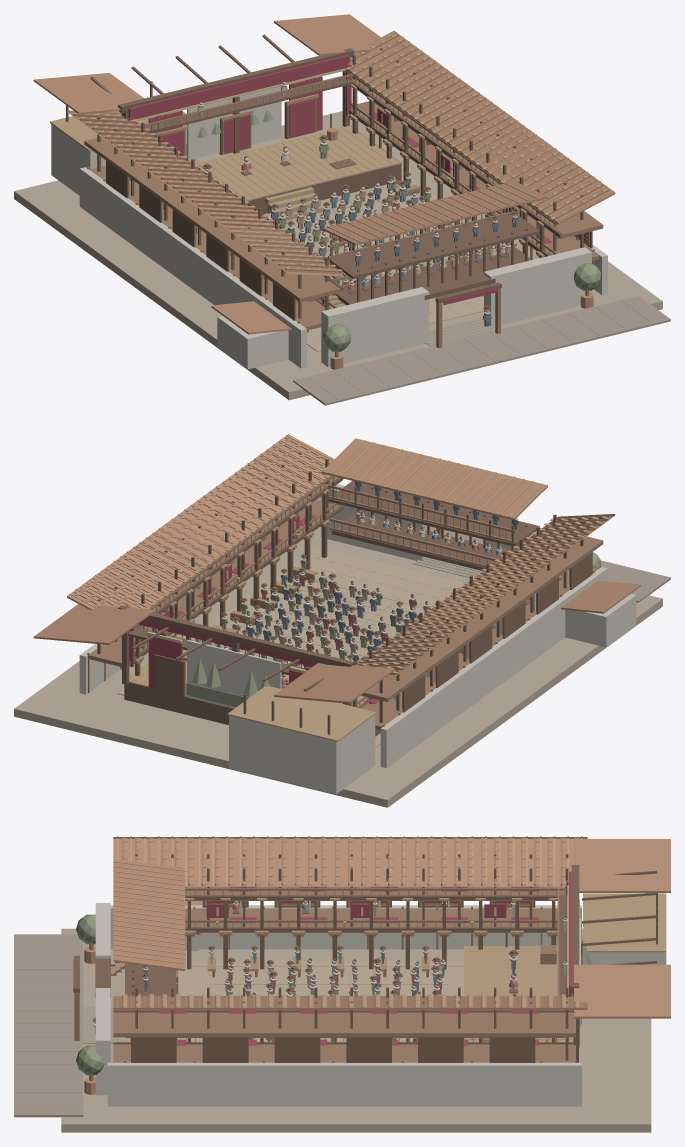
File: Corral_de_Comedias_3D_DETALLADO.glb
3 views of the same model, one above another, from view 1: azimuth 30°, elevation 25°; view 2: azimuth 150°, elevation 25°; view 3: azimuth 270°, elevation 25° (orthographic). The views are drawn at different scales.
Visible parts, largest first — view 1: Cubiertas | teja, Arquitectura | suelo, Cubiertas | teja_luz, Zaguán | piedra, Corredores | madera, Zaguán | enlucido, Cubiertas | teja_sombra, Arquitectura | enlucido, Escenario | tarima, Tertulia | madera_oscura, Corredores | madera_oscura, Escenario | granate (+28 smaller); view 2: Cubiertas | teja, Arquitectura | suelo, Cubiertas | teja_luz, Corredores | madera, Arquitectura | enlucido, Patio | baldosa, Camerinos | enlucido, Cubiertas | teja_sombra, Corredores | madera_oscura, Escenario | madera_oscura, Camerinos | tarima, Tertulia | madera_oscura (+25 smaller); view 3: Cubiertas | teja, Arquitectura | enlucido, Arquitectura | suelo, Corredores | madera, Zaguán | piedra, Cubiertas | teja_luz, Aposentos | madera_oscura, Corredores | madera_oscura, Patio | baldosa, Camerinos | tarima, Cubiertas | teja_sombra, Escenario | tarima (+22 smaller).
Boxes of the visible parts, box(x1,y1,x2,y2) form: Cubiertas | teja: box(33, 14, 615, 276); Arquitectura | suelo: box(14, 111, 662, 400); Cubiertas | teja_luz: box(69, 32, 613, 274); Zaguán | piedra: box(293, 296, 670, 405); Corredores | madera: box(84, 73, 603, 330); Zaguán | enlucido: box(321, 247, 591, 367); Cubiertas | teja_sombra: box(74, 35, 609, 272); Arquitectura | enlucido: box(79, 167, 607, 368); Escenario | tarima: box(194, 125, 402, 222); Tertulia | madera_oscura: box(328, 207, 539, 278); Corredores | madera_oscura: box(97, 48, 583, 318); Escenario | granate: box(128, 55, 351, 137); Cubiertas | teja: box(33, 434, 615, 703); Arquitectura | suelo: box(14, 527, 662, 807); Cubiertas | teja_luz: box(69, 435, 613, 675); Corredores | madera: box(89, 476, 603, 729); Arquitectura | enlucido: box(79, 567, 607, 767); Patio | baldosa: box(117, 547, 464, 747); Camerinos | enlucido: box(229, 715, 375, 794); Cubiertas | teja_sombra: box(74, 437, 609, 673); Corredores | madera_oscura: box(97, 452, 583, 722); Escenario | madera_oscura: box(118, 605, 380, 736); Camerinos | tarima: box(227, 686, 376, 741); Tertulia | madera_oscura: box(328, 481, 539, 546); Cubiertas | teja: box(113, 837, 670, 1018); Arquitectura | enlucido: box(107, 905, 581, 1106); Arquitectura | suelo: box(61, 928, 651, 1132); Corredores | madera: box(113, 886, 575, 1062); Zaguán | piedra: box(14, 934, 83, 1117); Cubiertas | teja_luz: box(113, 836, 582, 1009); Aposentos | madera_oscura: box(131, 901, 535, 1062); Corredores | madera_oscura: box(113, 854, 573, 1060); Patio | baldosa: box(177, 960, 463, 1041); Camerinos | tarima: box(583, 893, 666, 952); Cubiertas | teja_sombra: box(122, 837, 575, 1007); Escenario | tarima: box(464, 946, 572, 1041).
Bounding box in the file's own units: 41 × 12.01 × 56.8.
